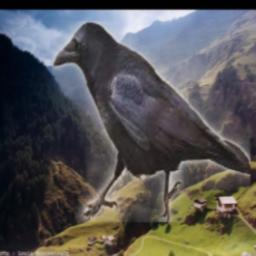Crow: (52, 21, 250, 222)
